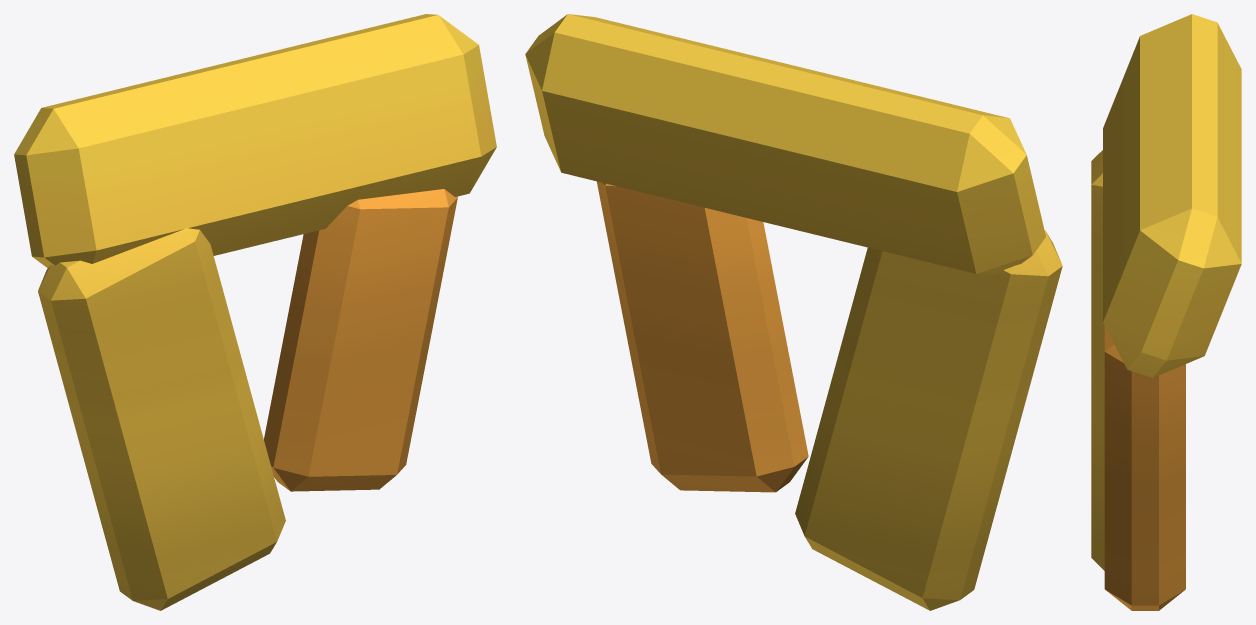
File: Lenco_Amarelo.fbx
The picture shows the model from 3 angles, left to right: view 1: azimuth 30°, elevation 25°; view 2: azimuth 150°, elevation 25°; view 3: azimuth 270°, elevation 25°; orthographic projection. The views are drawn at different scales.
Parts seen in each view (by area): view 1: Lenco_Malha; view 2: Lenco_Malha; view 3: Lenco_Malha.
Part boxes in pixels (x1,y1,x2,y2): Lenco_Malha: [14, 14, 496, 610]; Lenco_Malha: [525, 14, 1062, 610]; Lenco_Malha: [1091, 14, 1241, 610].
Bounding box in the file's own units: 0.2019 × 0.2083 × 0.0556.
